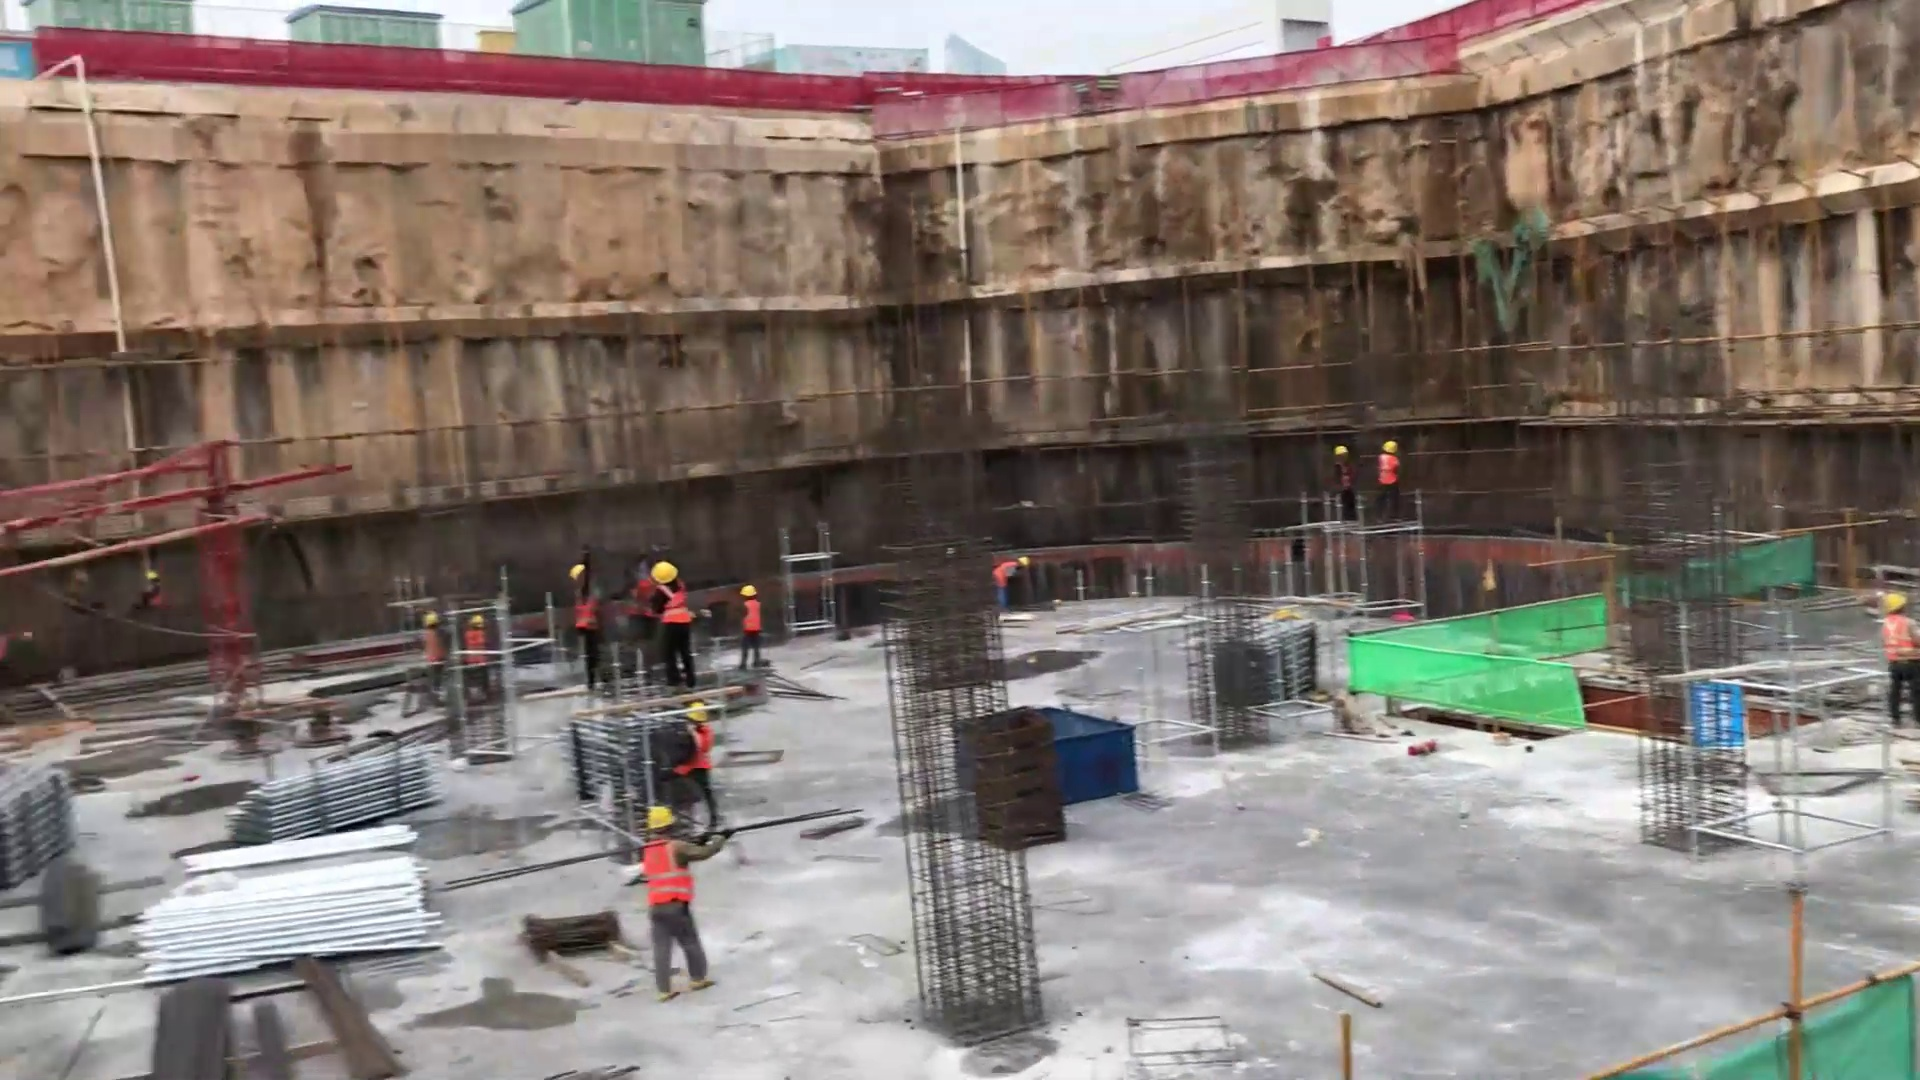helmet: (1329, 439, 1406, 463), (647, 806, 680, 830), (653, 560, 678, 586)
person: (627, 803, 737, 1005), (560, 561, 610, 709), (1874, 586, 1920, 730), (653, 552, 698, 693), (1324, 437, 1405, 514), (419, 611, 490, 694), (732, 580, 763, 676), (994, 550, 1031, 602)
vest: (628, 837, 692, 916), (659, 583, 692, 624)
